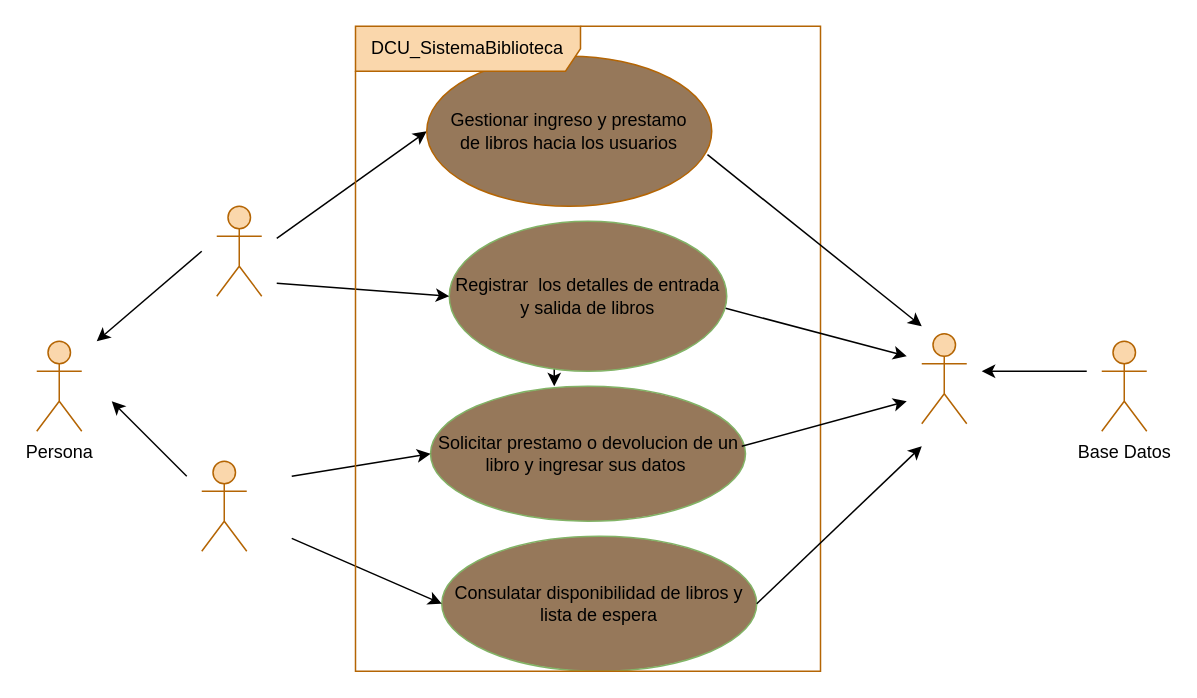
Image size: 1197x698. Some labels were removed from this diagram. Each missing label, with the centre of its shape:
Administrador: point (238, 250)
App: point (943, 378)
Usuario: point (223, 505)
